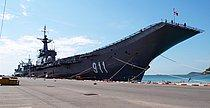MIL_Ship: (16, 18, 207, 78)
